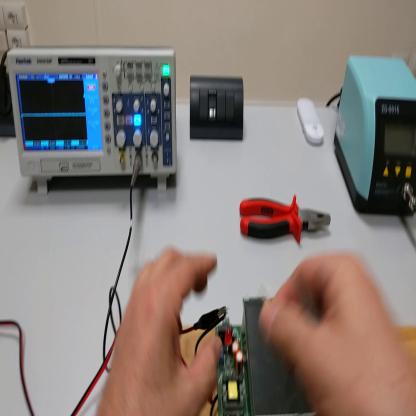hand: (260, 249, 416, 416), (98, 244, 224, 416)
low voltage board: (199, 317, 256, 413)
oscilloscope: (8, 43, 180, 196)
pliers: (239, 197, 333, 246)
socket: (2, 55, 17, 140)
welder station: (334, 57, 416, 216)
working area: (177, 316, 414, 415)
